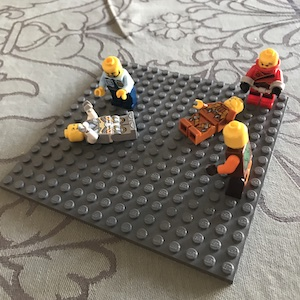Lego: (176, 91, 247, 145), (63, 103, 136, 148), (212, 123, 255, 197), (239, 45, 284, 113), (93, 54, 136, 112)
